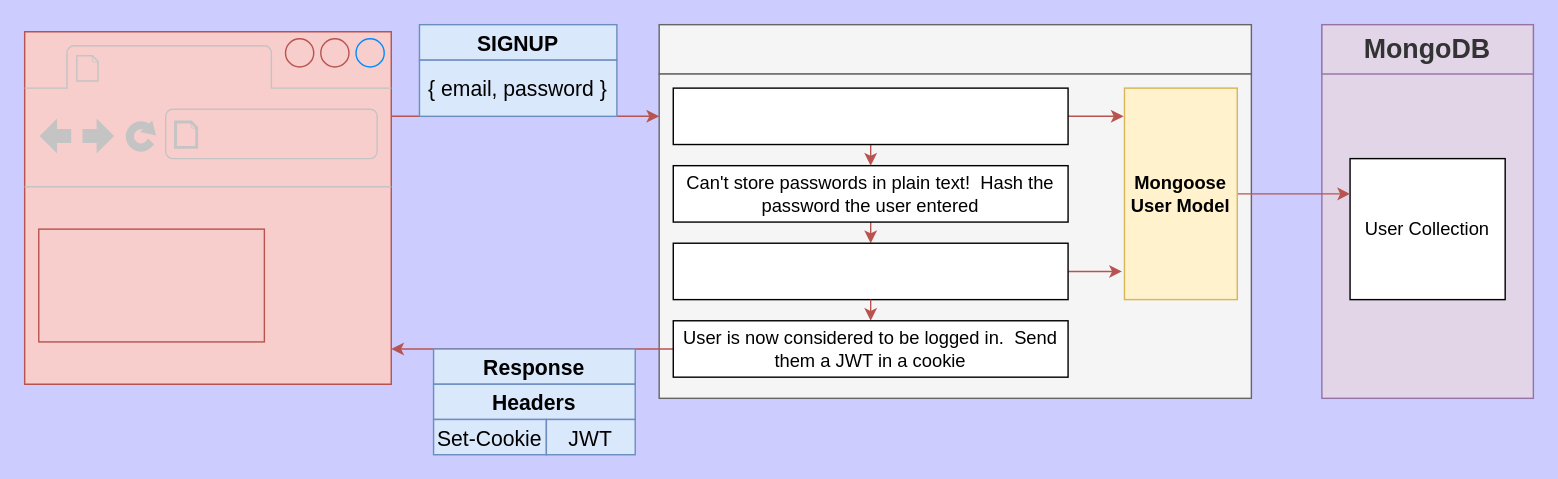
The diagram is 1558 pixels wide and 479 high, and some of its shapes have lost their labels. The shapes that lost their labels are listed below. From the top down, each one's box as (x1, y1, x2, y2) in pixels, then its label:
(108, 47, 264, 85): Page 1
(658, 23, 1251, 74): Auth Service
(672, 87, 1068, 145): Does a user with this email already exist? If so, respond with error
(37, 228, 264, 342): React App
(672, 242, 1068, 300): Create a new User and save them to MongoDB
